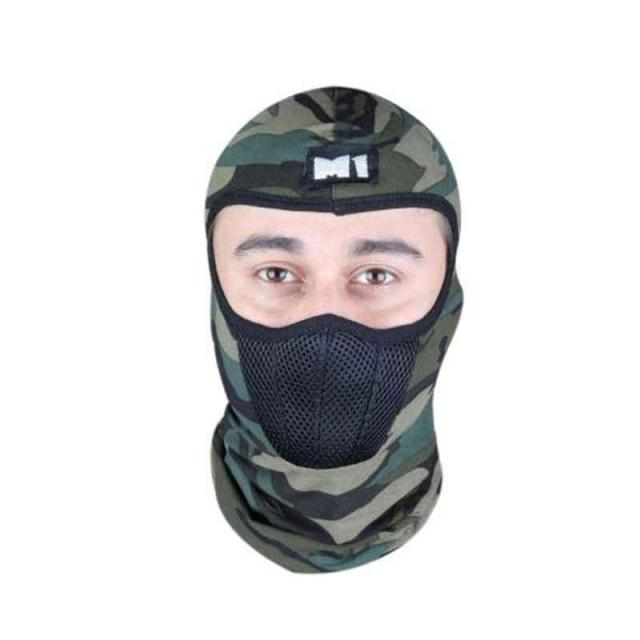6_pasamontana: (202, 86, 464, 573)
